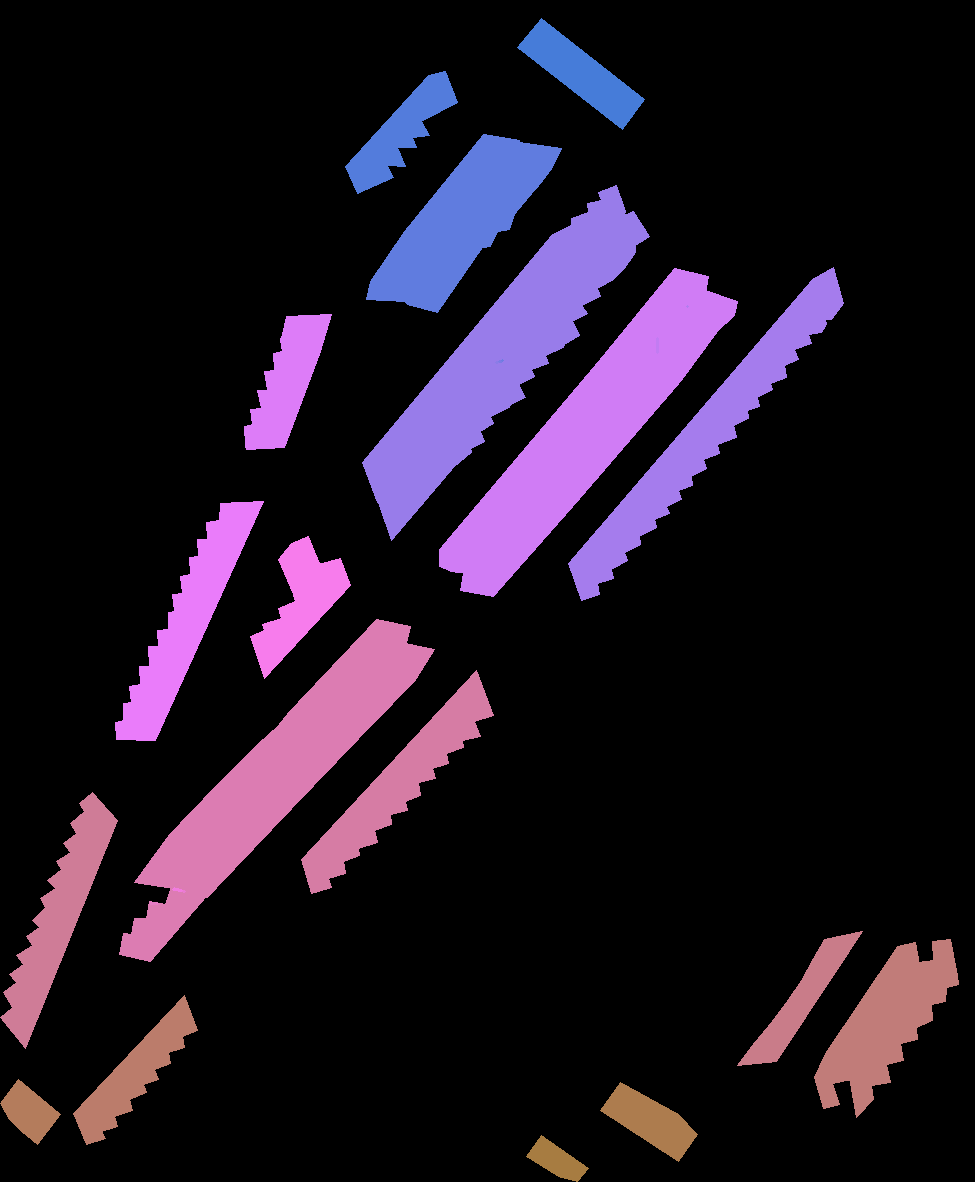parkingspot: (567, 266, 843, 600), (377, 210, 649, 540), (459, 288, 737, 596), (361, 184, 625, 502), (438, 267, 708, 574), (134, 619, 410, 888), (173, 641, 434, 897), (301, 670, 493, 893), (115, 501, 263, 740), (0, 792, 117, 1048), (399, 141, 561, 312), (365, 133, 519, 301), (847, 938, 958, 1117), (73, 995, 197, 1144), (814, 941, 922, 1108), (737, 930, 862, 1065), (516, 17, 644, 129), (344, 70, 457, 193), (250, 558, 350, 678), (244, 314, 331, 449), (599, 1082, 697, 1161), (119, 889, 206, 961), (0, 1079, 60, 1144), (525, 1135, 588, 1181), (278, 536, 323, 594)
